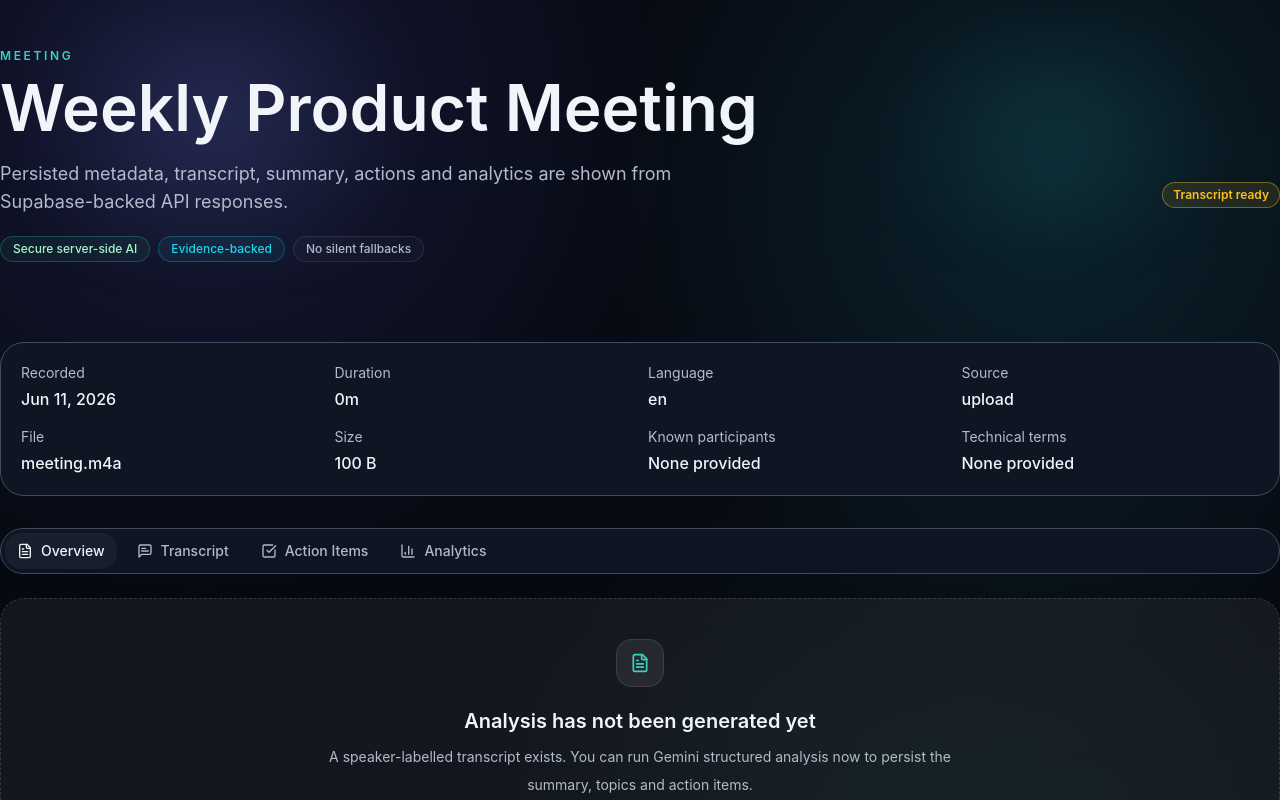
Phase 2 frontend integration › renders persisted transcript search and deterministic speaker analytics
Click the tab "Transcript". click: (183, 551)
box: [124,533,241,569]
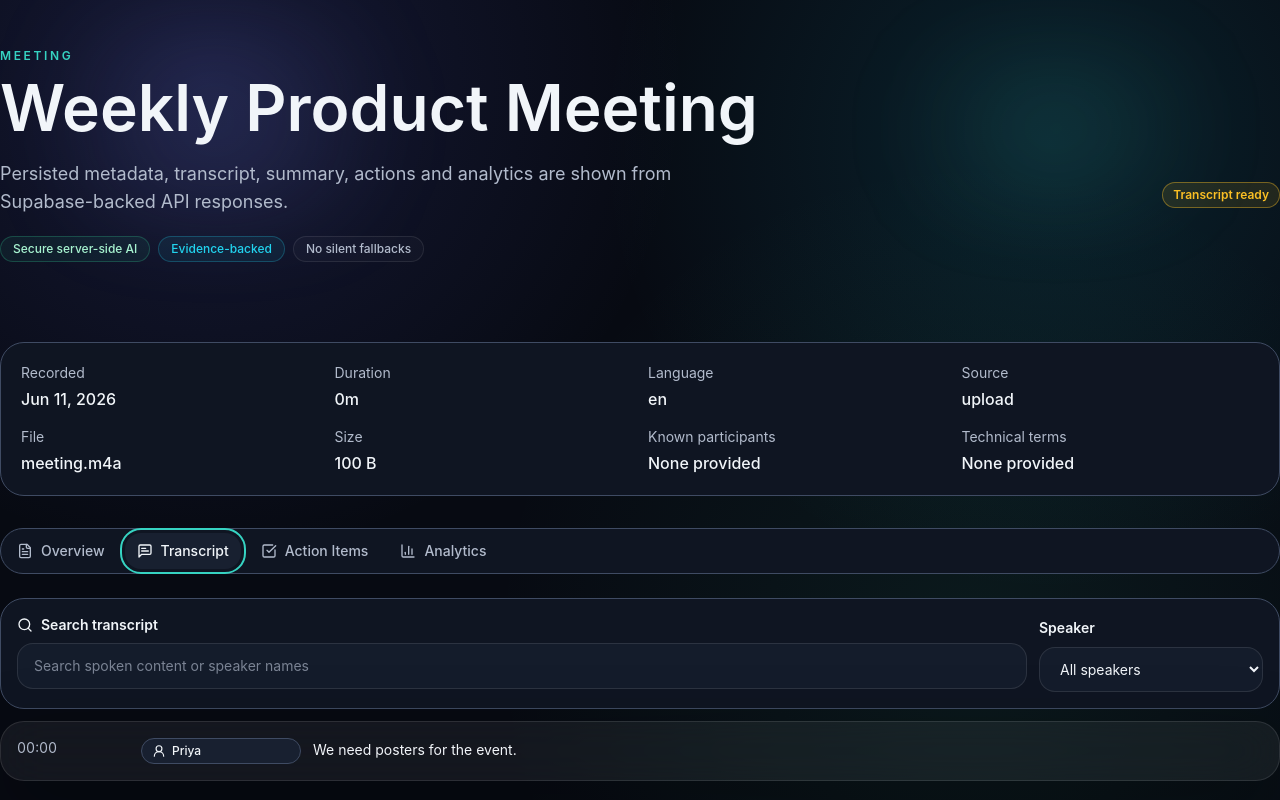
Check: the text "We need posters for the event." is shown, box [313,741,517,758]
Type "posters" into the field labelled "Search transcript". click: (522, 666)
box: [17,643,1027,689]
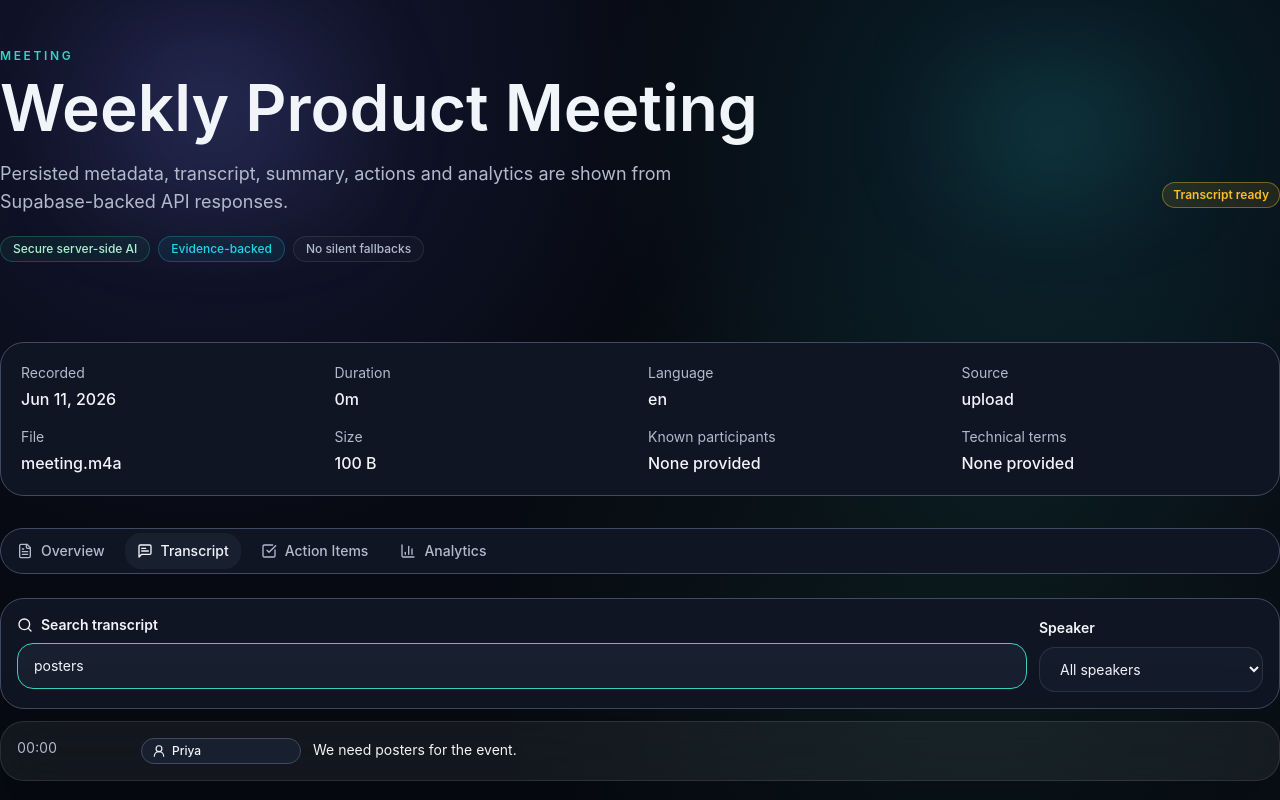
Check: the text "We need posters for the event." is shown, box [313,741,517,758]
Click the tab "Analytics". click: (443, 551)
box: [388,533,498,569]
(page scrolled)
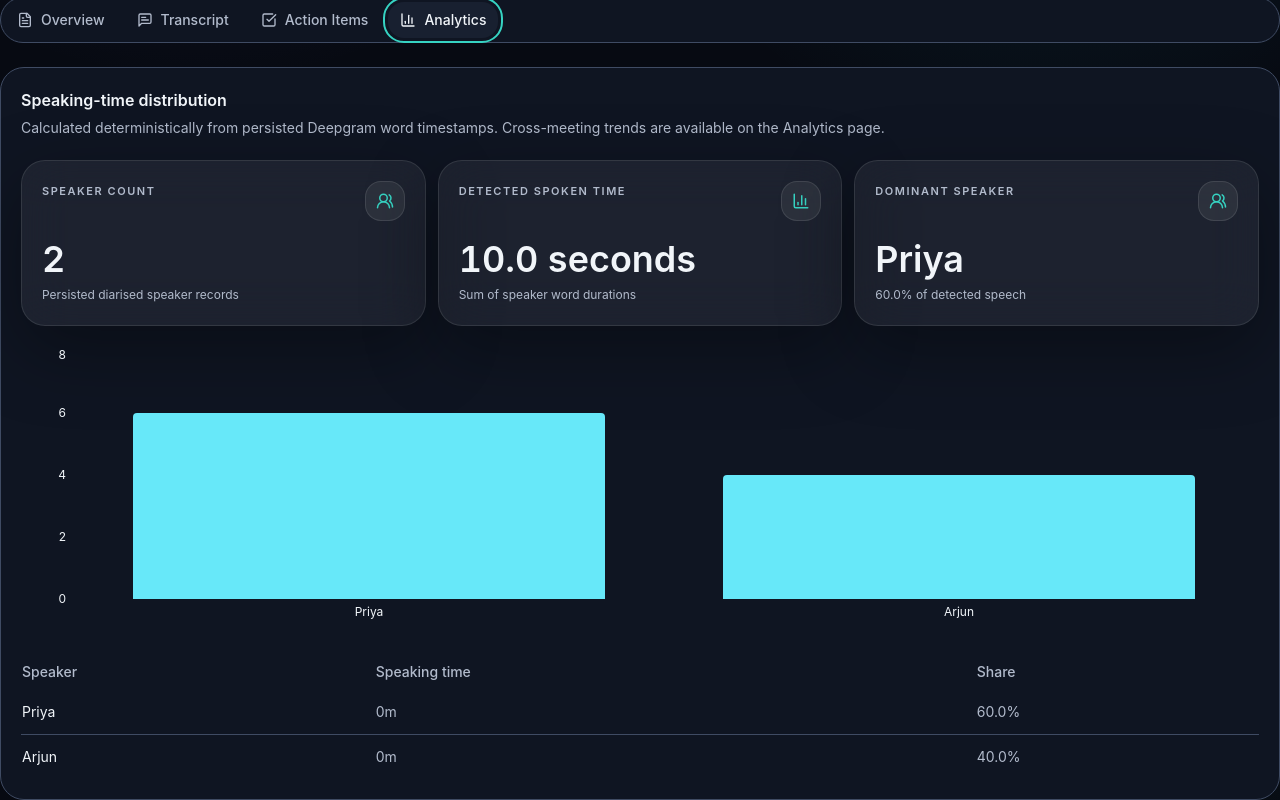
Check: the heading "Speaking-time distribution" is shown, box [21,90,227,110]
Check: the text "Priya" is shown, box [875,237,964,281]
Check: the text "60.0%" is shown, box [976,690,1259,734]
